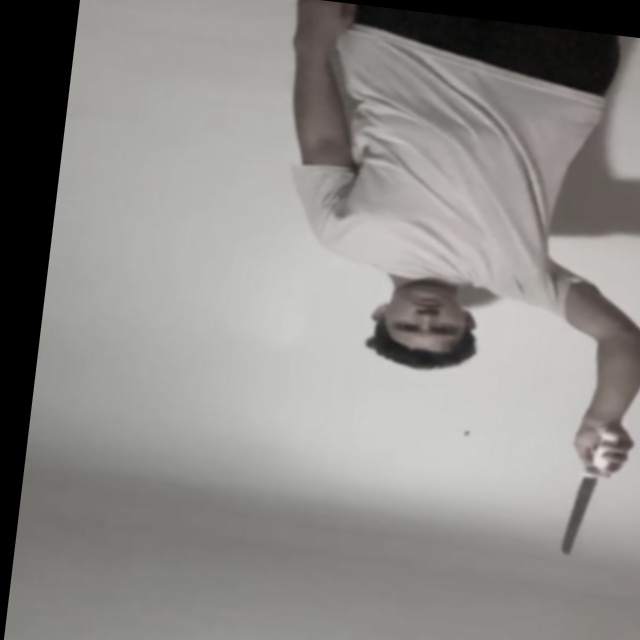Sharp-Object: (558, 479, 596, 556)
